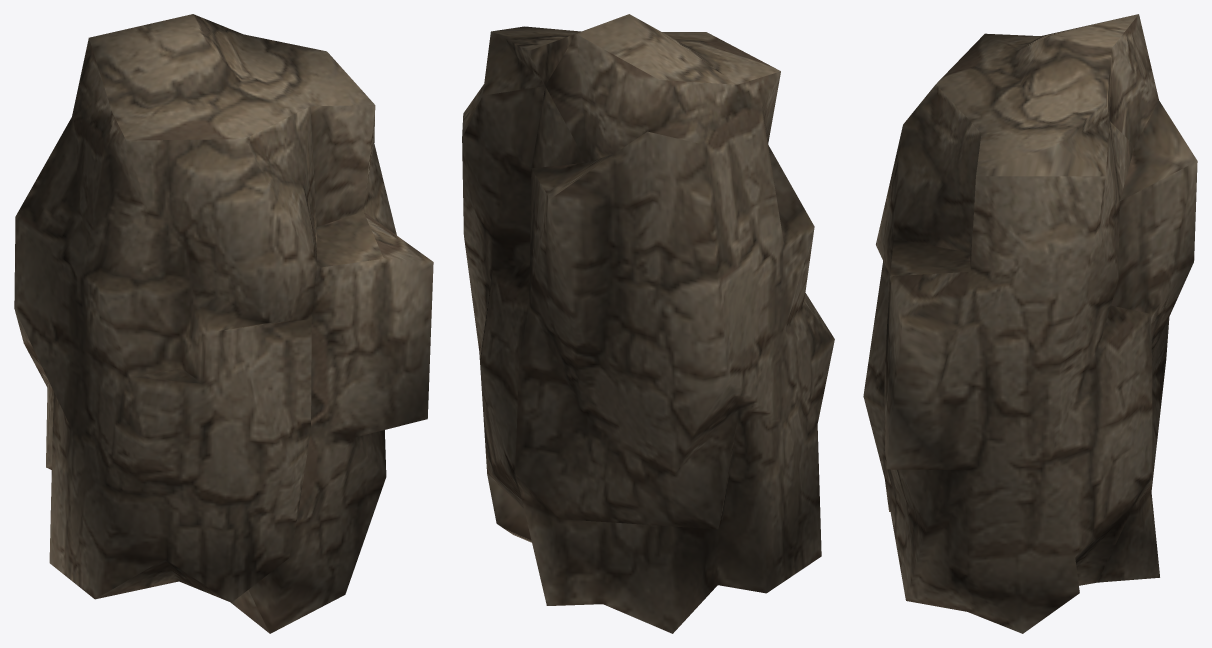
The model's file is shanti03.FBX.
The picture shows the model from 3 angles, left to right: view 1: azimuth 30°, elevation 25°; view 2: azimuth 150°, elevation 25°; view 3: azimuth 270°, elevation 25°; orthographic projection. The views are drawn at different scales.
Visible parts, largest first — view 1: Group29195; view 2: Group29195; view 3: Group29195.
Boxes of the visible parts, x1,y1,x2,y2 form: Group29195: (14,14,433,633); Group29195: (462,14,834,633); Group29195: (863,14,1197,633).
Size of the model in its own units: 46.05 by 78.95 by 42.61.
